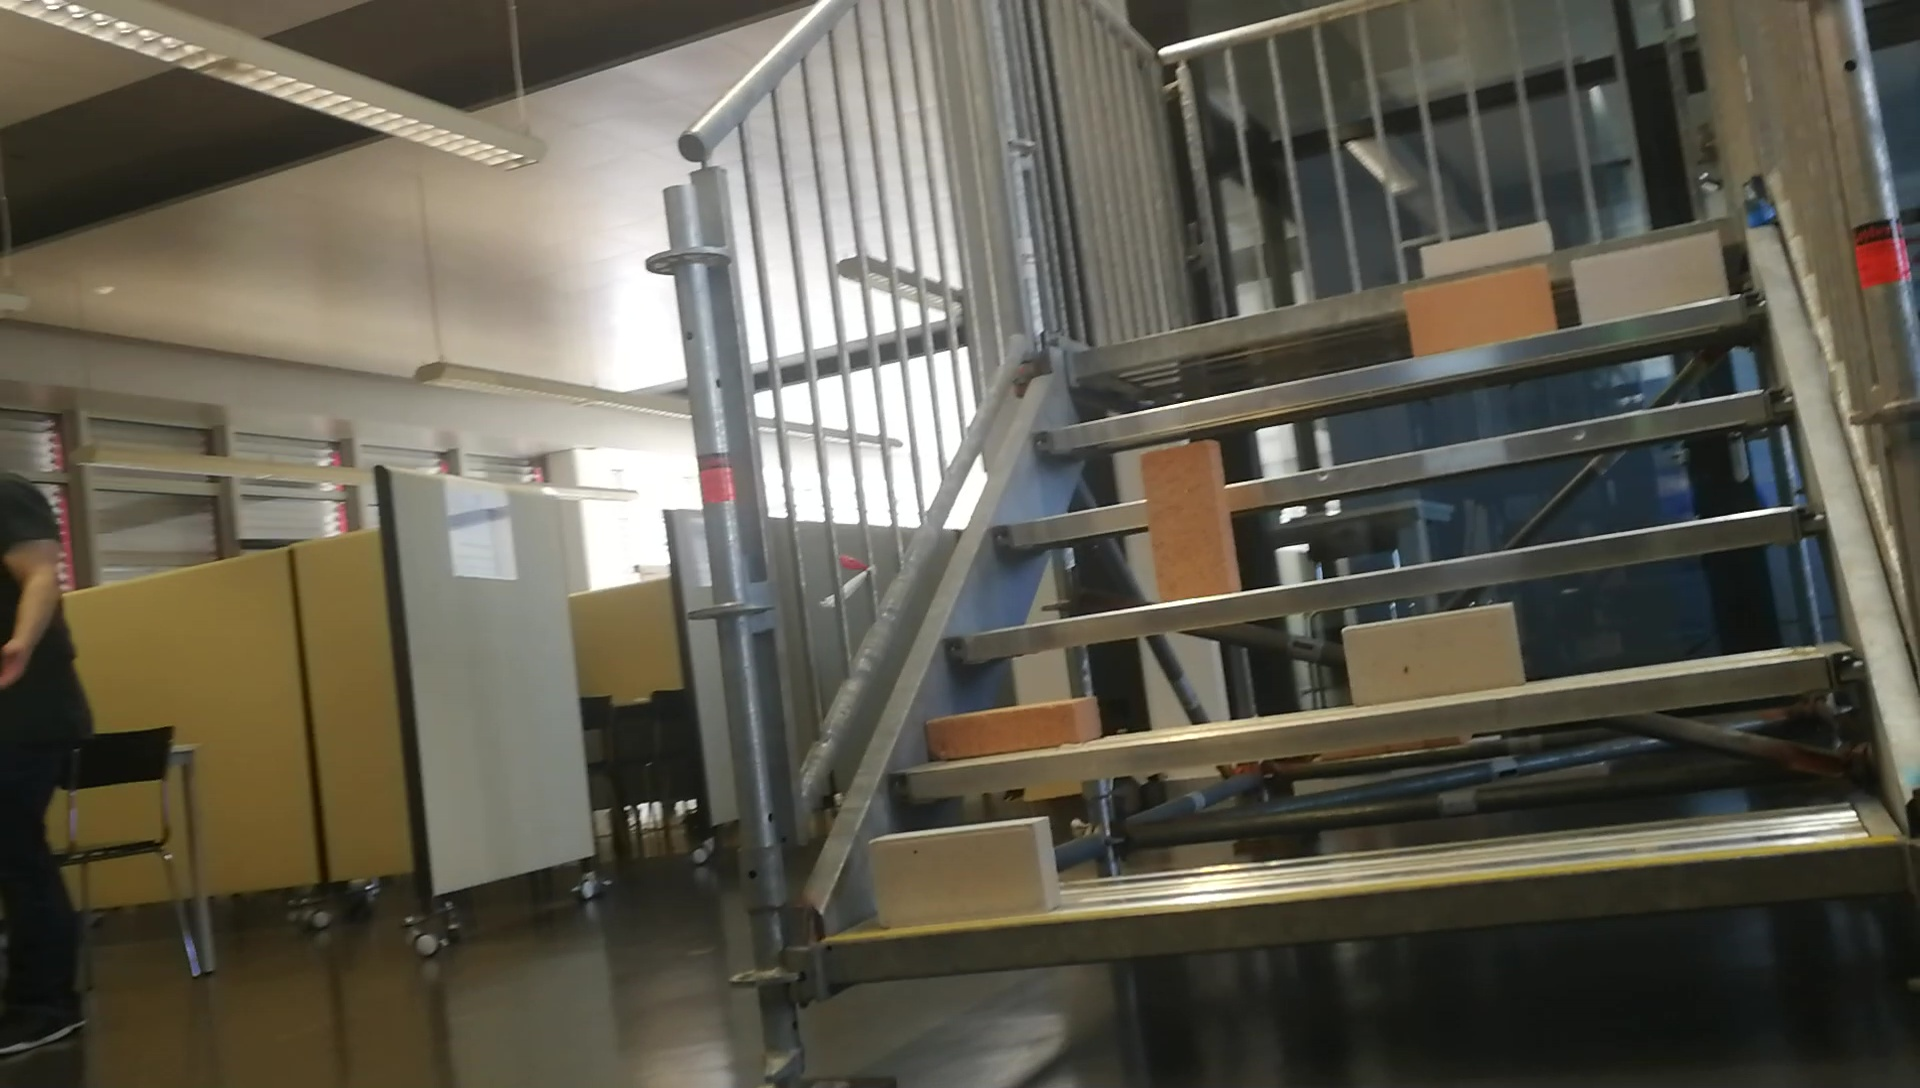brick: (870, 820, 1052, 924), (1340, 599, 1523, 702), (1145, 437, 1241, 601), (1575, 231, 1722, 324), (1404, 262, 1551, 352), (928, 698, 1097, 750), (1422, 223, 1545, 270)
edge: (890, 648, 1859, 803), (822, 840, 1905, 979), (951, 508, 1822, 650), (997, 388, 1788, 543), (1029, 298, 1759, 454)
stairs: (641, 7, 1920, 1088)
steps: (818, 214, 1915, 1004)
